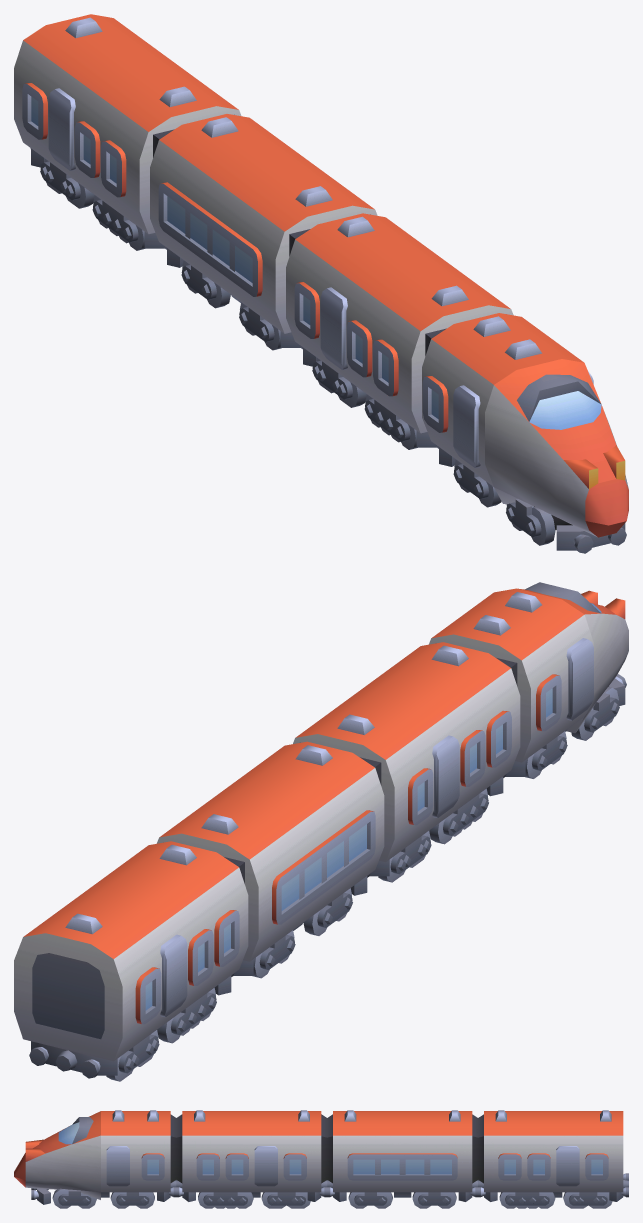
Rendered from train-transformed.glb.
3 views of the same model, one above another, from view 1: azimuth 30°, elevation 25°; view 2: azimuth 150°, elevation 25°; view 3: azimuth 270°, elevation 25° (orthographic). The views are drawn at different scales.
Parts seen in each view (by area): view 1: train-electric-bullet-a; view 2: train-electric-bullet-a; view 3: train-electric-bullet-a.
Boxes of the visible parts, box(x1,y1,x2,y2) form: train-electric-bullet-a: box(14, 14, 628, 553); train-electric-bullet-a: box(14, 582, 628, 1081); train-electric-bullet-a: box(14, 1110, 628, 1208).
Bounding box in the file's own units: 1.32 × 1.64 × 10.6.
Materials: 1 (1 with a texture image).
